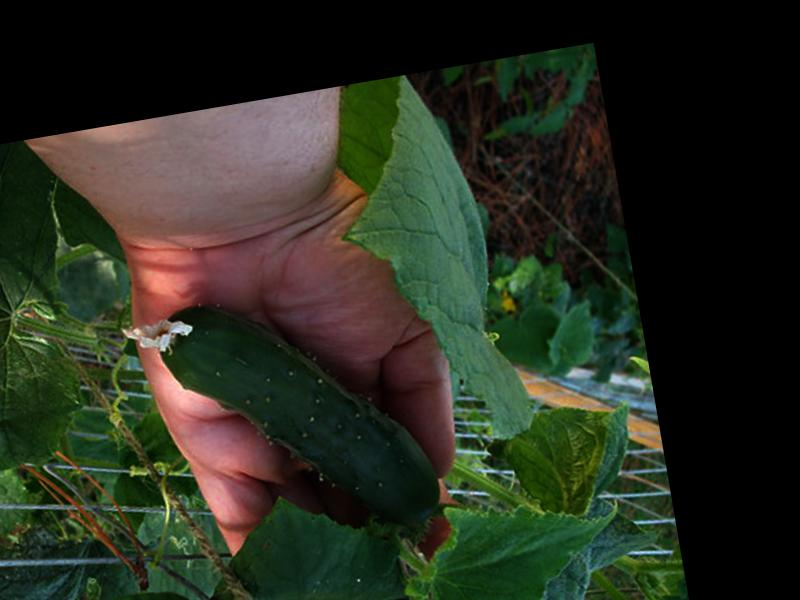Cucumber: (117, 271, 442, 567)
